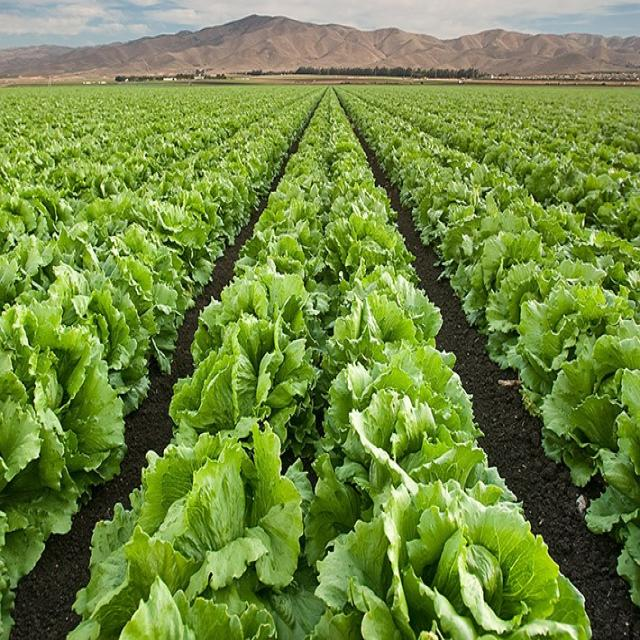Lettuce head: (104, 433, 288, 640), (347, 479, 561, 640), (0, 311, 117, 479), (317, 368, 469, 489), (525, 289, 640, 442), (164, 324, 310, 443), (459, 209, 566, 310), (105, 204, 192, 320), (331, 264, 431, 362), (225, 233, 307, 314), (329, 186, 395, 261), (264, 178, 318, 231)
